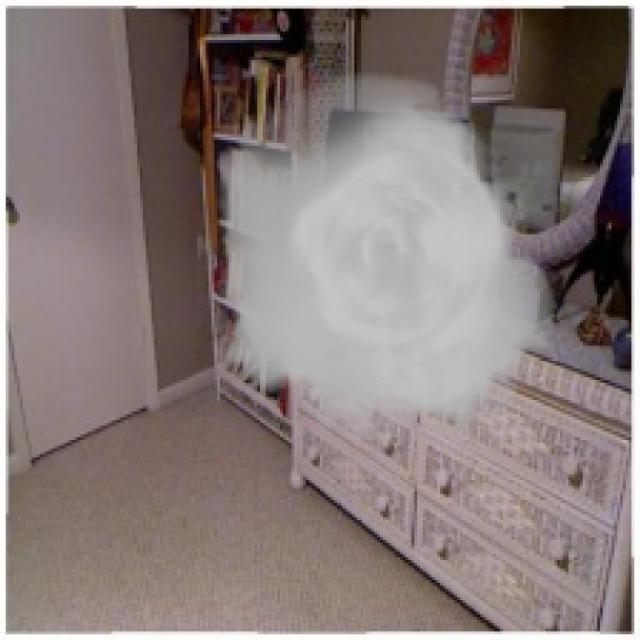Smoke: (197, 71, 569, 440)
